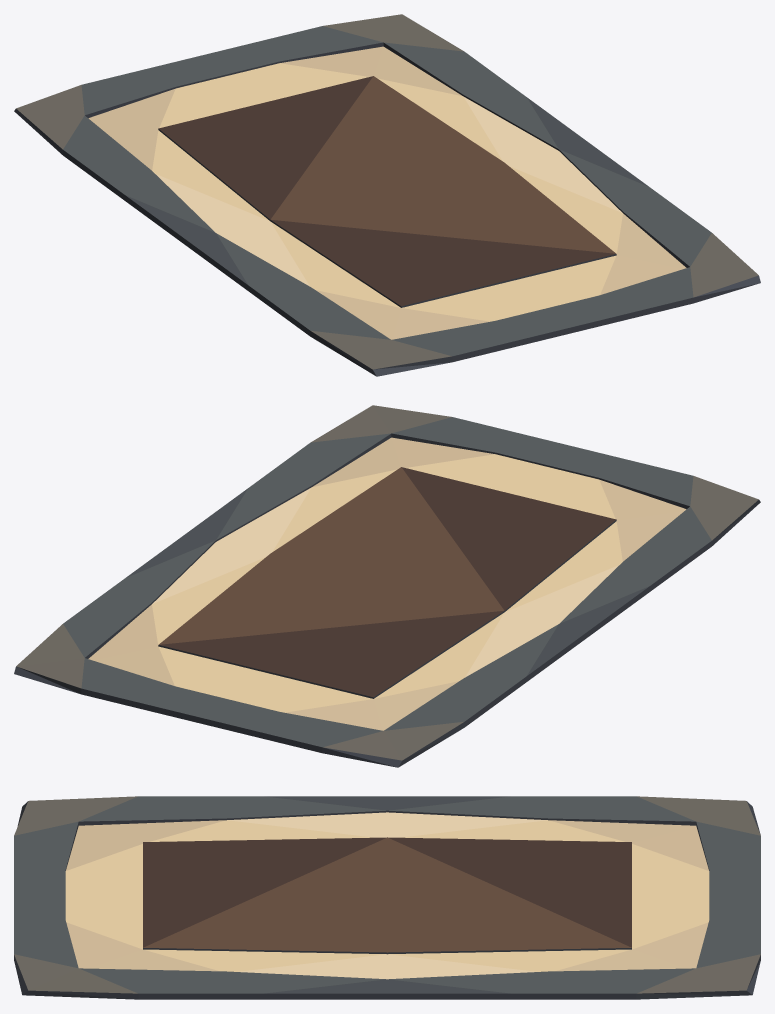
Rendered from doormat.fbx.
3 renders of one model, top to bottom at view 1: azimuth 30°, elevation 25°; view 2: azimuth 150°, elevation 25°; view 3: azimuth 270°, elevation 25°, orthographic.
Parts seen in each view (by area): view 1: doormat; view 2: doormat; view 3: doormat.
Boxes of the visible parts, box(x1,y1,x2,y2) form: doormat: box(14, 14, 760, 376); doormat: box(14, 405, 760, 767); doormat: box(14, 796, 760, 999).
Bounding box in the file's own units: 70.65 × 1 × 113.
